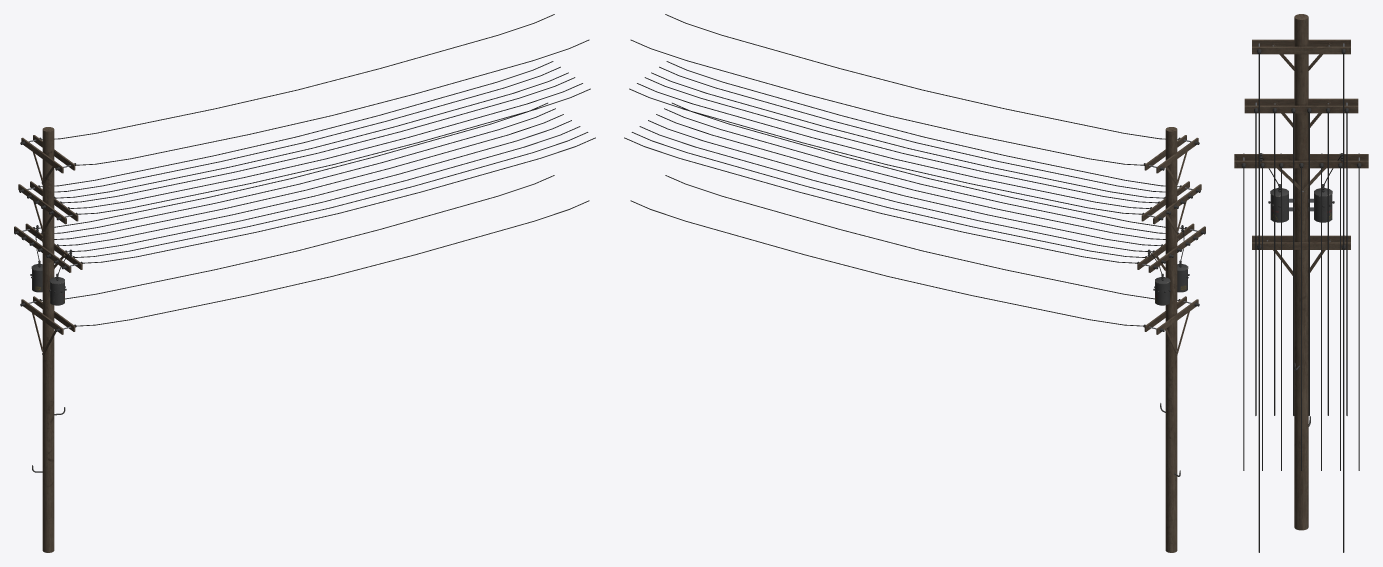
Rendered from Pole.fbx.
3 renders of one model, left to right at view 1: azimuth 30°, elevation 25°; view 2: azimuth 150°, elevation 25°; view 3: azimuth 270°, elevation 25°, orthographic. The views are drawn at different scales.
Visible parts, largest first — view 1: Lines, Pole; view 2: Lines, Pole; view 3: Pole, Lines.
Part boxes in pixels (bbox=[...]): Lines: bbox=[35, 14, 595, 326]; Pole: bbox=[14, 127, 82, 552]; Lines: bbox=[624, 14, 1184, 326]; Pole: bbox=[1137, 127, 1205, 552]; Pole: bbox=[1234, 14, 1368, 530]; Lines: bbox=[1243, 53, 1359, 552].
Size of the model in its own units: 1599 by 1200 by 287.
